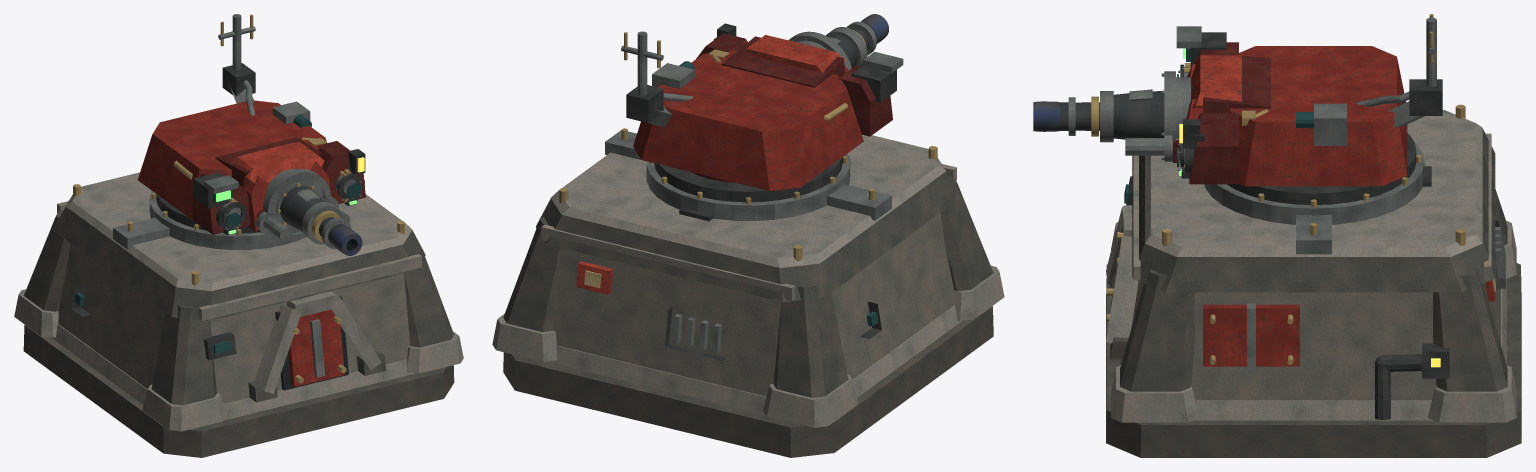
File: martian_heavy_weapon_bunker_v10_textured_export.glb
The picture shows the model from 3 angles, left to right: view 1: azimuth 30°, elevation 25°; view 2: azimuth 150°, elevation 25°; view 3: azimuth 270°, elevation 25°; orthographic projection. The views are drawn at different scales.
Parts seen in each view (by area): view 1: 03_monolithic_bunker_mass, 01_foundation_granular_ferrocrete, 05_top_concrete_skin, 16_martian_red_turret_armor, 04_upper_blast_cap, 06_corner_armor_buttress_WS, 02_lower_blast_raft, 53_south_slab_anchor_strip, 06_corner_armor_buttress_ES, 09_steel_service_hatch, 06_corner_armor_buttress_WN, 07_corner_buttress_foot_WS (+26 smaller); view 2: 03_monolithic_bunker_mass, 16_martian_red_turret_armor, 05_top_concrete_skin, 01_foundation_granular_ferrocrete, 04_upper_blast_cap, 06_corner_armor_buttress_WN, 02_lower_blast_raft, 13_ring_lower_bearing_seat, 06_corner_armor_buttress_EN, 06_corner_armor_buttress_WS, 14_ring_open_bearing_race, 07_corner_buttress_foot_WN (+17 smaller); view 3: 05_top_concrete_skin, 03_monolithic_bunker_mass, 16_martian_red_turret_armor, 01_foundation_granular_ferrocrete, 04_upper_blast_cap, 06_corner_armor_buttress_ES, 06_corner_armor_buttress_EN, 55_east_wall_controller_armor, 02_lower_blast_raft, 13_ring_lower_bearing_seat, 18_turret_front_cheek_E, 07_corner_buttress_foot_EN (+25 smaller).
Part boxes in pixels (x1=…): 03_monolithic_bunker_mass: x1=58, y1=243, x2=409, y2=403; 01_foundation_granular_ferrocrete: x1=23, y1=325, x2=454, y2=457; 05_top_concrete_skin: x1=65, y1=172, x2=412, y2=291; 16_martian_red_turret_armor: x1=138, y1=100, x2=326, y2=220; 04_upper_blast_cap: x1=52, y1=207, x2=425, y2=320; 06_corner_armor_buttress_WS: x1=151, y1=305, x2=216, y2=405; 02_lower_blast_raft: x1=51, y1=324, x2=416, y2=420; 53_south_slab_anchor_strip: x1=199, y1=254, x2=421, y2=320; 06_corner_armor_buttress_ES: x1=404, y1=246, x2=453, y2=347; 09_steel_service_hatch: x1=288, y1=309, x2=344, y2=386; 06_corner_armor_buttress_WN: x1=24, y1=210, x2=70, y2=311; 07_corner_buttress_foot_WS: x1=142, y1=384, x2=226, y2=431; 03_monolithic_bunker_mass: x1=553, y1=213, x2=954, y2=396; 16_martian_red_turret_armor: x1=633, y1=50, x2=863, y2=190; 05_top_concrete_skin: x1=551, y1=133, x2=945, y2=267; 01_foundation_granular_ferrocrete: x1=503, y1=306, x2=993, y2=457; 04_upper_blast_cap: x1=536, y1=172, x2=960, y2=301; 06_corner_armor_buttress_WN: x1=773, y1=283, x2=847, y2=397; 02_lower_blast_raft: x1=547, y1=305, x2=961, y2=415; 13_ring_lower_bearing_seat: x1=646, y1=153, x2=850, y2=220; 06_corner_armor_buttress_EN: x1=503, y1=216, x2=560, y2=331; 06_corner_armor_buttress_WS: x1=940, y1=176, x2=993, y2=291; 14_ring_open_bearing_race: x1=654, y1=157, x2=842, y2=202; 07_corner_buttress_foot_WN: x1=763, y1=374, x2=858, y2=427; 05_top_concrete_skin: x1=1145, y1=110, x2=1482, y2=256; 03_monolithic_bunker_mass: x1=1131, y1=261, x2=1500, y2=400; 16_martian_red_turret_armor: x1=1230, y1=46, x2=1407, y2=186; 01_foundation_granular_ferrocrete: x1=1106, y1=263, x2=1521, y2=457; 04_upper_blast_cap: x1=1132, y1=128, x2=1495, y2=292; 06_corner_armor_buttress_ES: x1=1120, y1=269, x2=1194, y2=391; 06_corner_armor_buttress_EN: x1=1433, y1=269, x2=1507, y2=391; 55_east_wall_controller_armor: x1=1203, y1=304, x2=1299, y2=366; 02_lower_blast_raft: x1=1120, y1=279, x2=1506, y2=420; 13_ring_lower_bearing_seat: x1=1204, y1=143, x2=1424, y2=224; 18_turret_front_cheek_E: x1=1189, y1=112, x2=1238, y2=184; 07_corner_buttress_foot_EN: x1=1428, y1=365, x2=1516, y2=422.
Size of the model in its own units: 3.04 by 3.01 by 3.53.
Materials: 17 (17 with a texture image).
